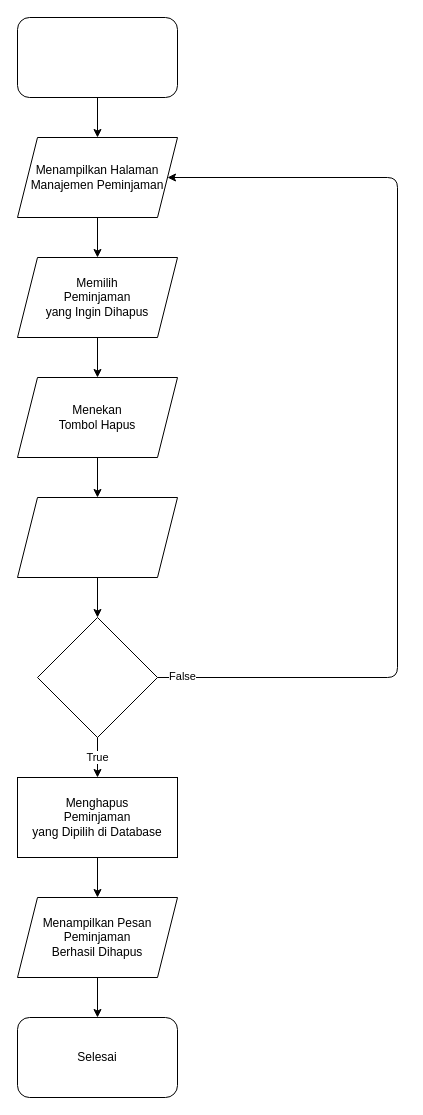
The diagram is 423 pixels wide and 1115 high, and some of its shapes have lost their labels. Here are the shapes that lost their labels. From the top down, the centre of each, then its label:
the point at 97,57: Mulai
the point at 97,537: Meminta Konfirmasi
the point at 97,677: Konfirmasi Iya?
